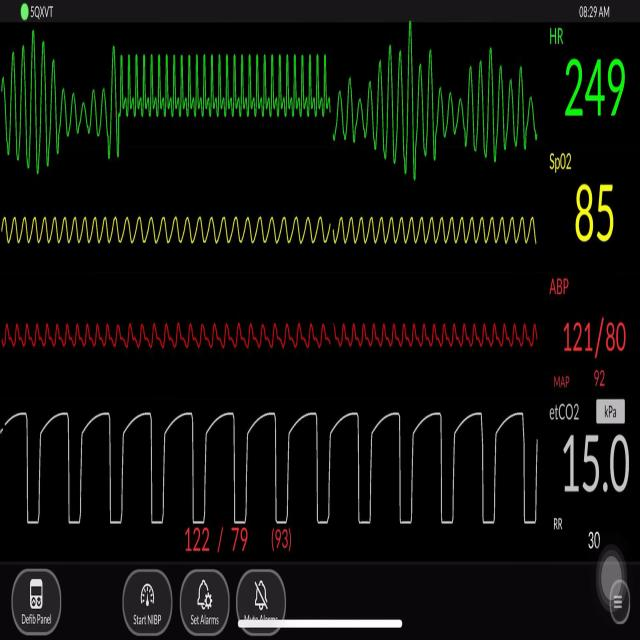danger: (334, 25, 544, 198), (110, 36, 325, 133), (3, 28, 104, 195)
